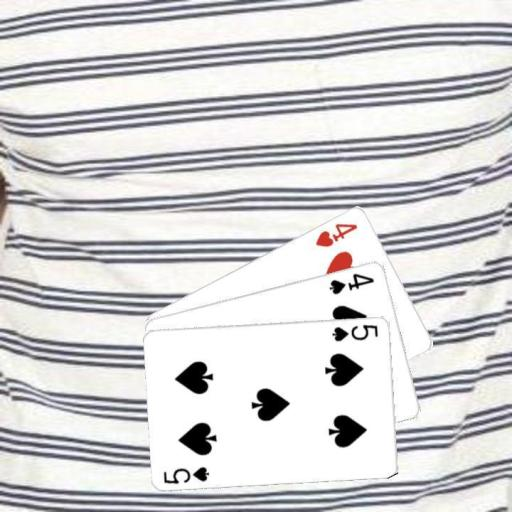card-corner: (312, 219, 359, 248), (326, 269, 376, 296), (161, 463, 211, 485), (329, 321, 380, 342)
